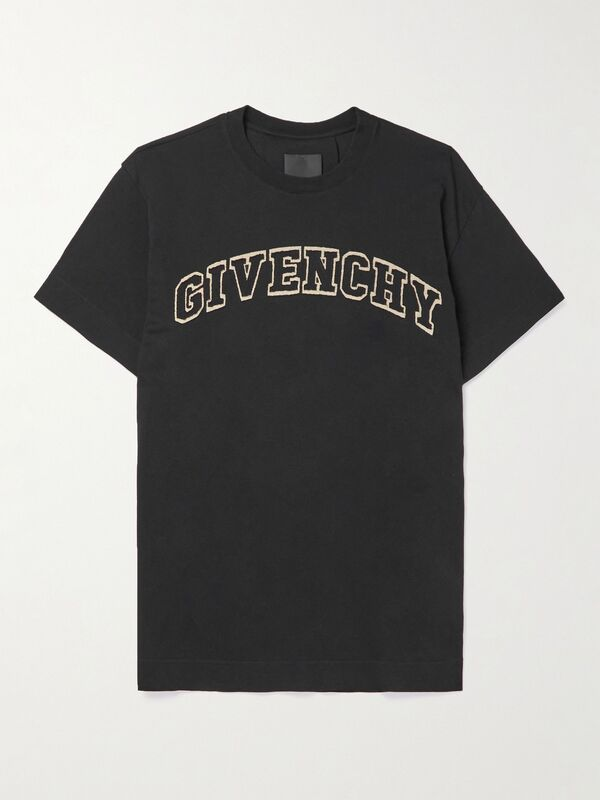tshirt: (30, 97, 568, 708)
